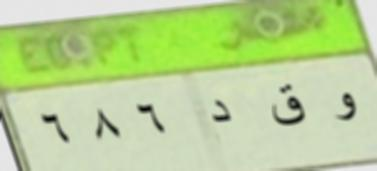6: (38, 106, 75, 156), (132, 98, 167, 139)
8: (89, 107, 120, 148)
daal: (205, 93, 234, 130)
qaaf: (266, 79, 306, 132)
waw: (328, 86, 359, 128)
